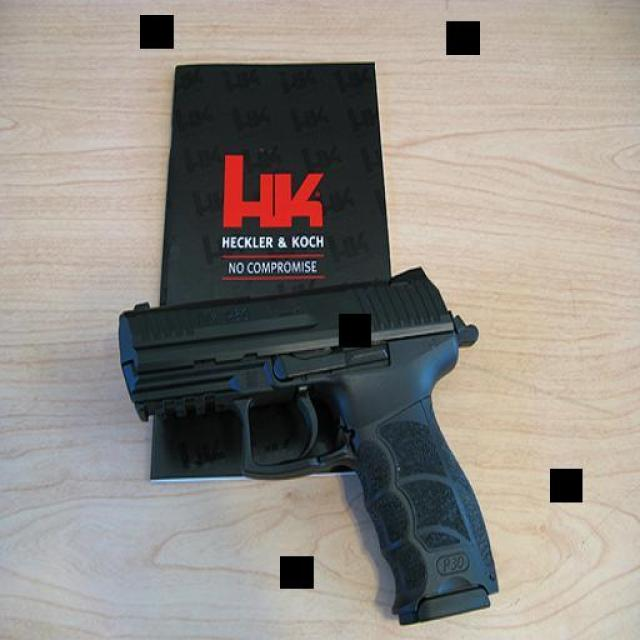gun: (111, 266, 511, 612)
